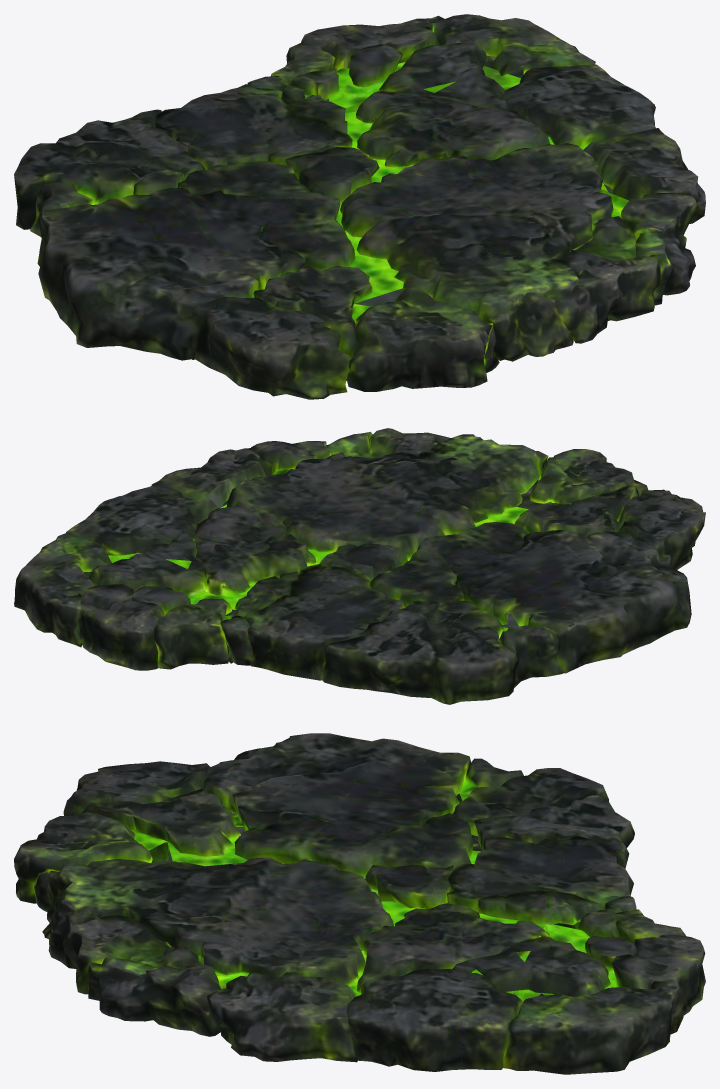
Rendered from rift-slab.glb.
The picture shows the model from 3 angles, top to bottom: view 1: azimuth 30°, elevation 25°; view 2: azimuth 150°, elevation 25°; view 3: azimuth 270°, elevation 25°; orthographic projection. The views are drawn at different scales.
Visible parts, largest first — view 1: geometry_0; view 2: geometry_0; view 3: geometry_0.
Boxes of the visible parts, x1,y1,x2,y2 form: geometry_0: [14, 14, 705, 399]; geometry_0: [14, 428, 705, 704]; geometry_0: [14, 733, 705, 1074].
Bounding box in the file's own units: 0.957 × 0.0854 × 0.9351.
1 material, 1 textured.
